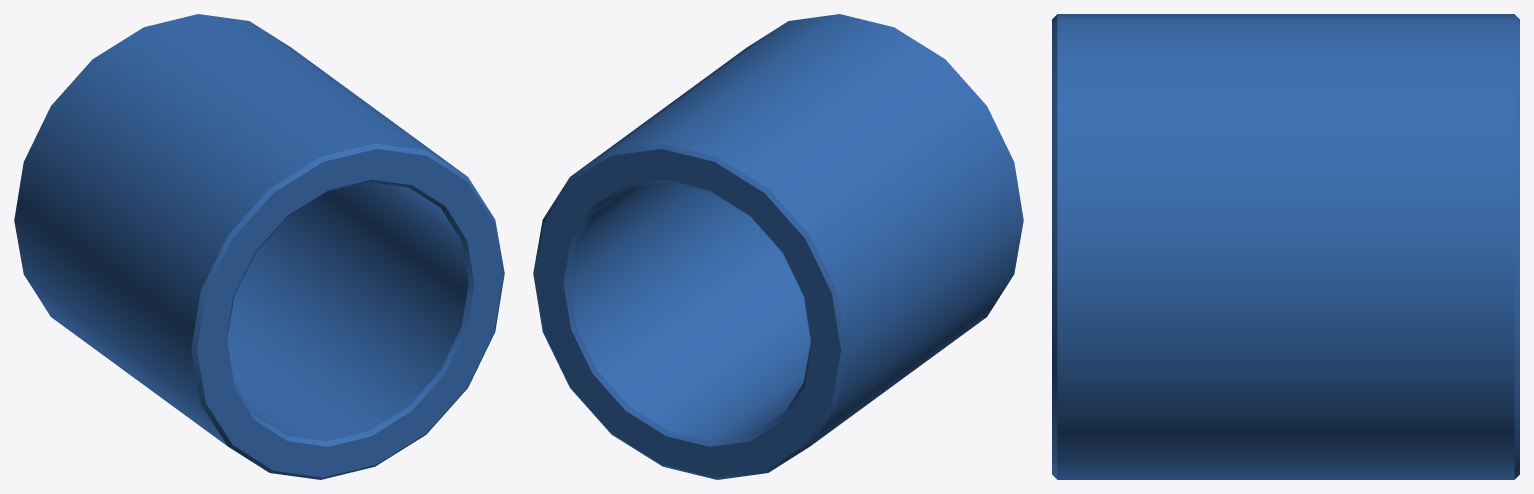
Rendered from SHP0110002.fbx.
The picture shows the model from 3 angles, left to right: view 1: azimuth 30°, elevation 25°; view 2: azimuth 150°, elevation 25°; view 3: azimuth 270°, elevation 25°; orthographic projection. The views are drawn at different scales.
Visible parts, largest first — view 1: smSHP0110002; view 2: smSHP0110002; view 3: smSHP0110002.
Part boxes in pixels (box(x1,y1,x2,y2)): smSHP0110002: box(14, 14, 504, 479); smSHP0110002: box(533, 14, 1023, 479); smSHP0110002: box(1052, 14, 1519, 479).
Size of the model in its own units: 161 by 159 by 161.
1 material, 1 textured.
